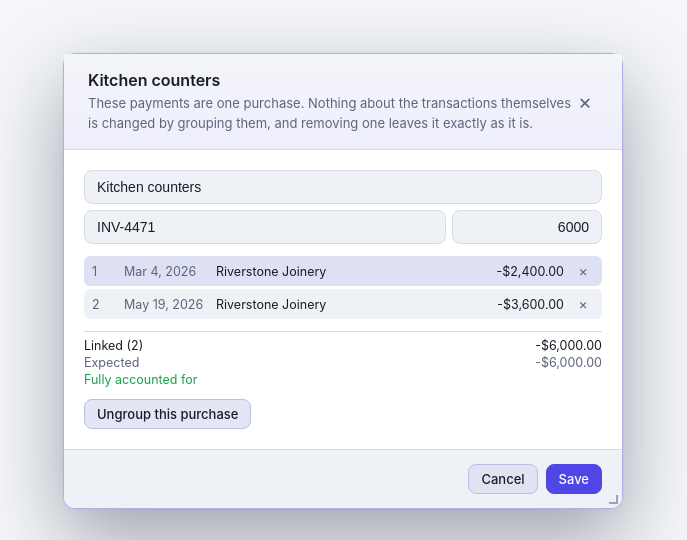
Scenario: editing its fields › shows a rejected save rather than swallowing it
Expected: the text "Kitchen counters" is shown, [88,70,220,90]
Click the button "Save".
click(574, 479)  # box [546,464,602,494]
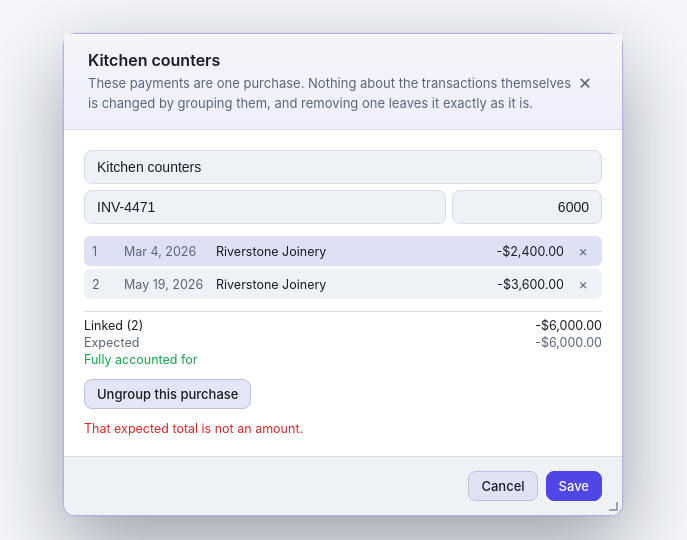
Result: the text "That expected total is not an amount." is shown at [84,421,303,436]
